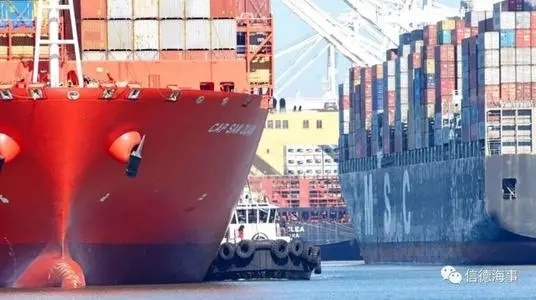Cargoship: (1, 1, 280, 293), (336, 1, 536, 263)
otherboat: (216, 185, 328, 283)
